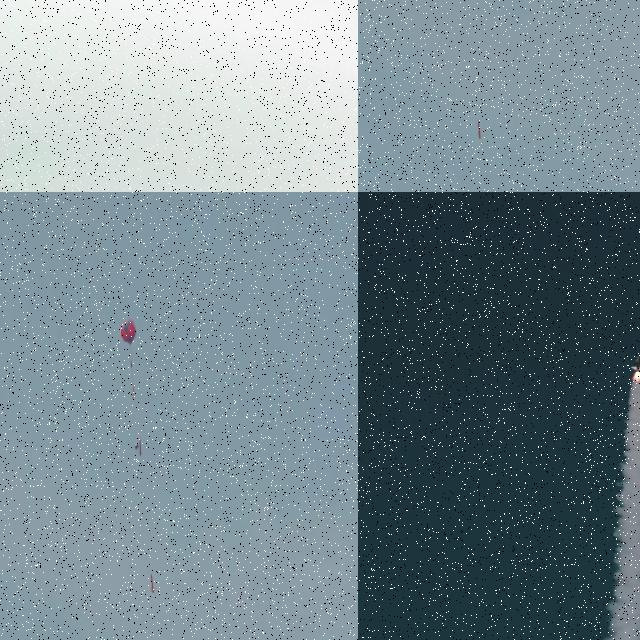Rocket: (630, 356, 640, 372), (477, 119, 482, 139), (150, 574, 155, 593)
